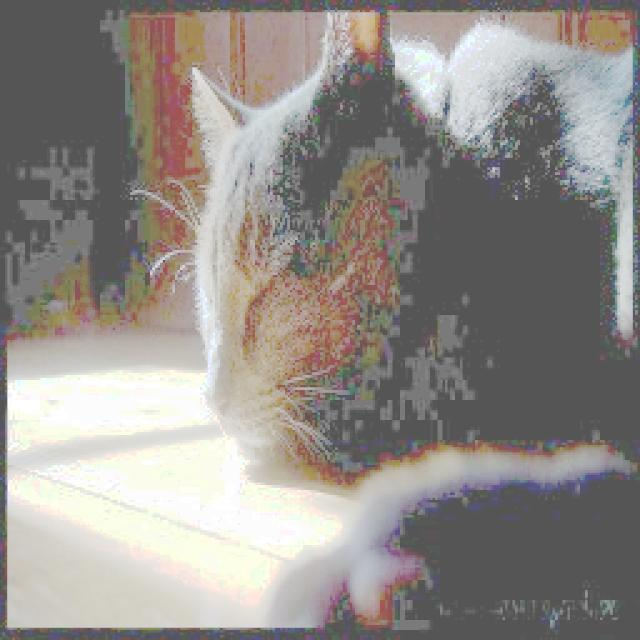cat: (166, 9, 640, 465)
